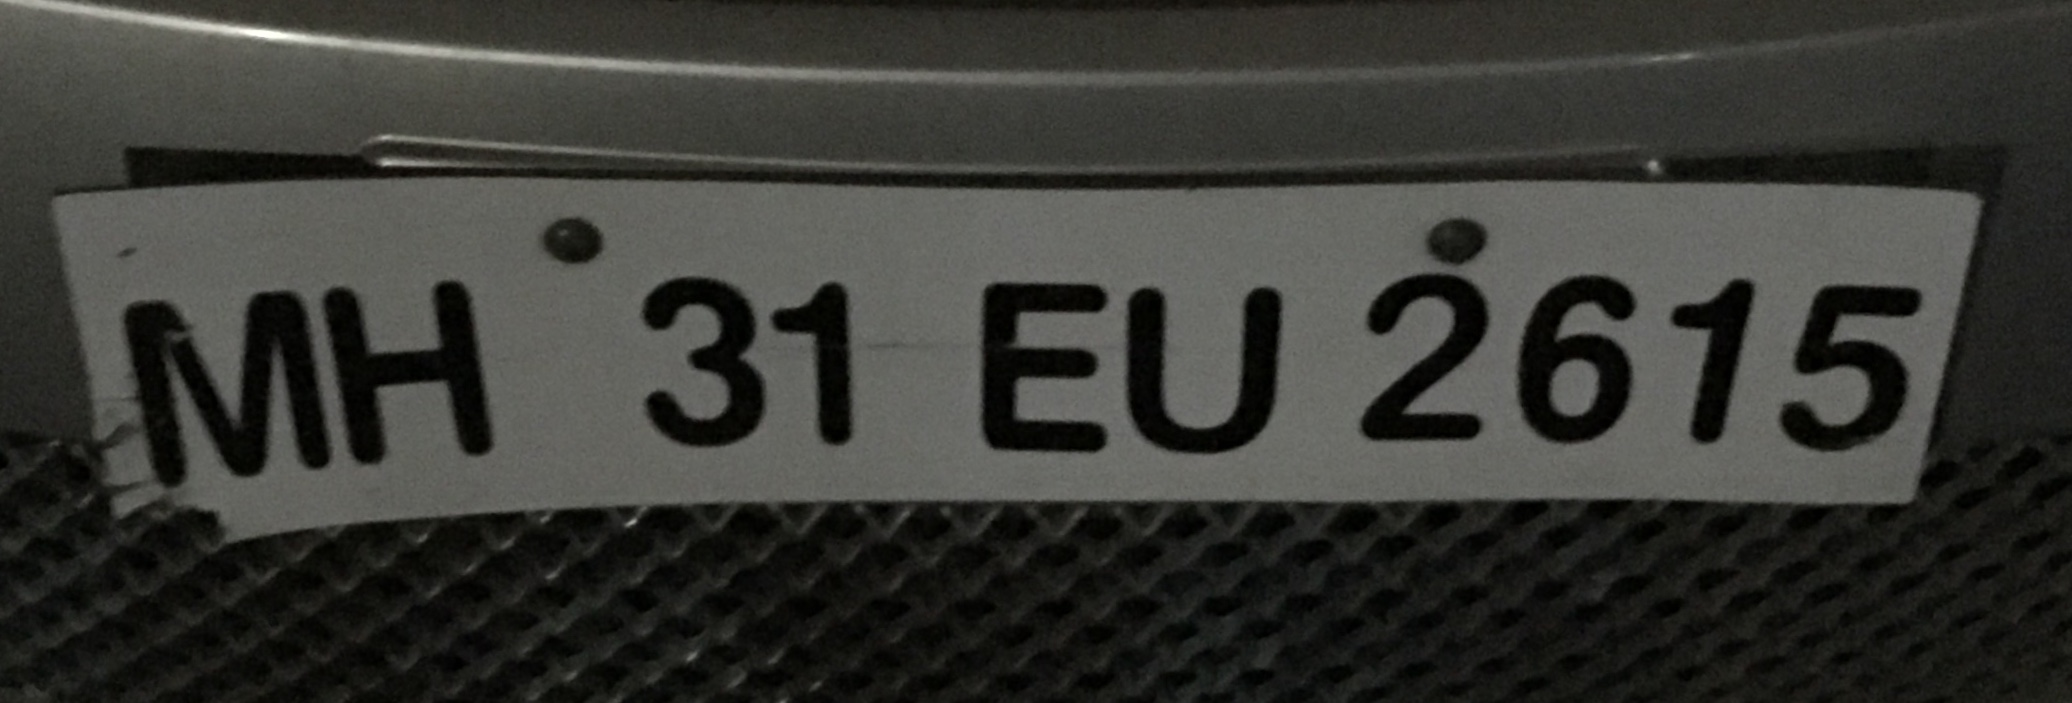numberplate: (45, 174, 1974, 542)
